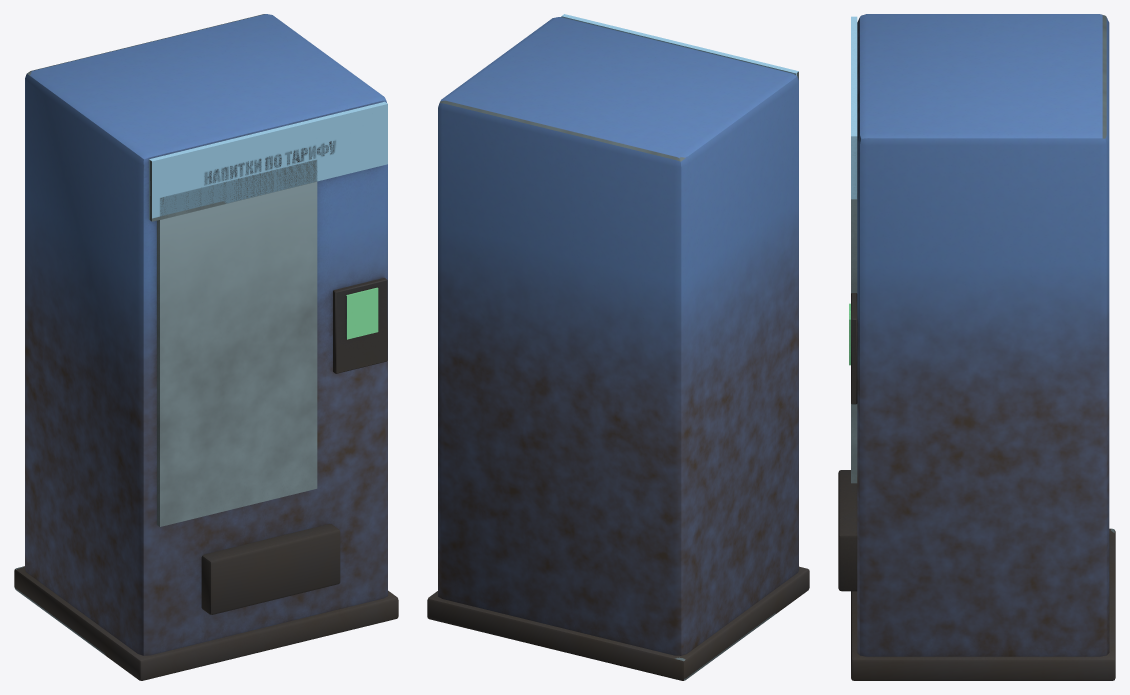
Rendered from g67_pz_vend_drinks.glb.
The picture shows the model from 3 angles, left to right: view 1: azimuth 30°, elevation 25°; view 2: azimuth 150°, elevation 25°; view 3: azimuth 270°, elevation 25°; orthographic projection. The views are drawn at different scales.
Visible parts, largest first — view 1: g67_pz_vend_drinks, glass; view 2: g67_pz_vend_drinks; view 3: g67_pz_vend_drinks, glass.
Boxes of the visible parts, box(x1,y1,x2,y2) form: g67_pz_vend_drinks: box(14, 14, 398, 680); glass: box(157, 160, 317, 526); g67_pz_vend_drinks: box(427, 14, 809, 680); g67_pz_vend_drinks: box(838, 14, 1115, 680); glass: box(851, 199, 857, 483).
Bounding box in the file's own units: 0.99 × 1.9 × 0.88.
Materials: 1 (1 with a texture image).
